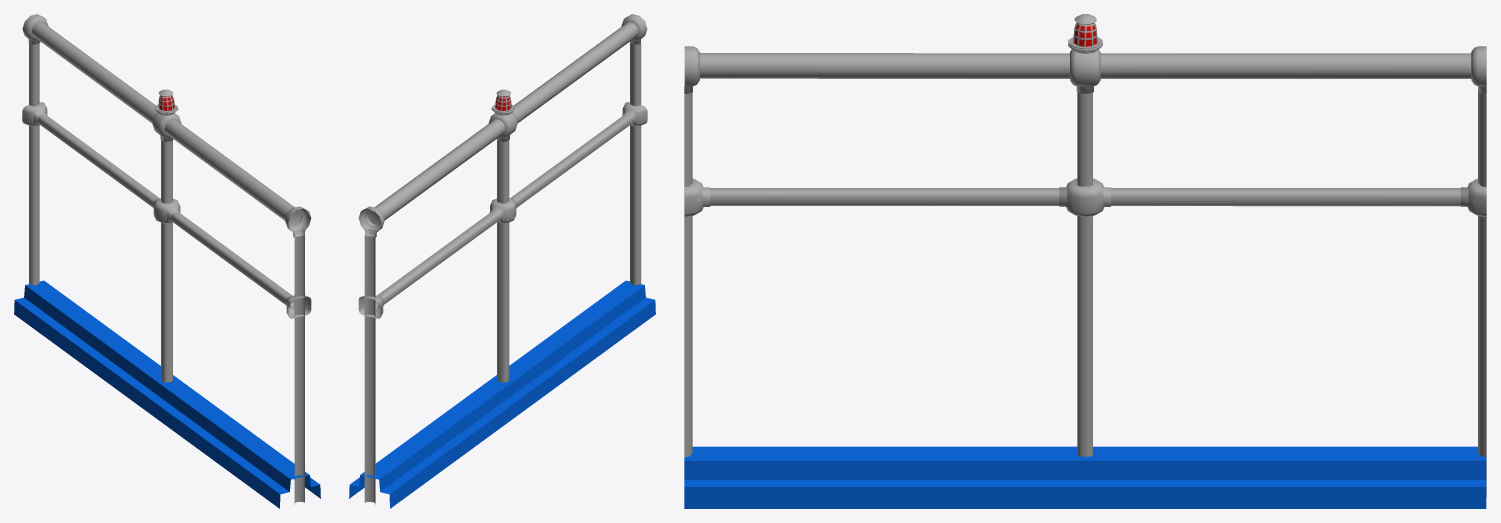
Rendered from Rail_standalone.fbx.
3 views of the same model, side by side, from view 1: azimuth 30°, elevation 25°; view 2: azimuth 150°, elevation 25°; view 3: azimuth 270°, elevation 25° (orthographic). The views are drawn at different scales.
Visible parts, largest first — view 1: Railwalk__modular5; view 2: Railwalk__modular5; view 3: Railwalk__modular5.
Part boxes in pixels (x1=…): Railwalk__modular5: x1=14, y1=14, x2=320, y2=508; Railwalk__modular5: x1=349, y1=14, x2=655, y2=508; Railwalk__modular5: x1=684, y1=14, x2=1486, y2=508.
Size of the model in its own units: 0.178 by 1.32 by 2.
